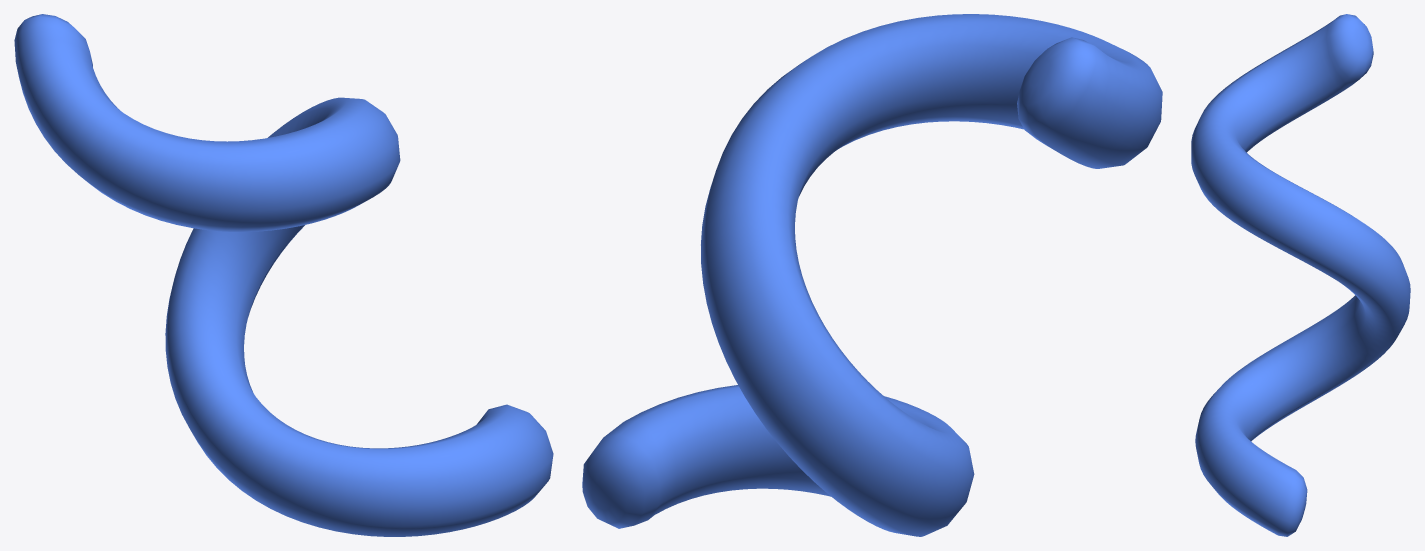
Rendered from Hairy_curl.glb.
3 renders of one model, left to right at view 1: azimuth 30°, elevation 25°; view 2: azimuth 150°, elevation 25°; view 3: azimuth 270°, elevation 25°, orthographic. The views are drawn at different scales.
Visible parts, largest first — view 1: Hairy_curl.001; view 2: Hairy_curl.001; view 3: Hairy_curl.001.
Part boxes in pixels (<box>): Hairy_curl.001: <box>14,14,553,536</box>; Hairy_curl.001: <box>582,14,1162,536</box>; Hairy_curl.001: <box>1191,14,1410,536</box>.
Size of the model in its own units: 2.27 by 2.43 by 1.29.
